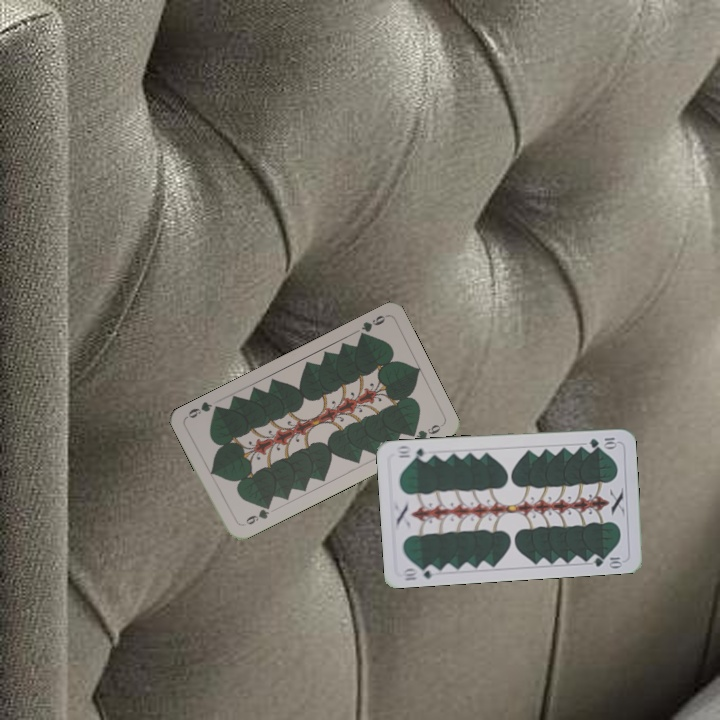G10: (398, 562, 439, 583), (585, 433, 619, 450)
G9: (355, 311, 389, 341), (238, 501, 273, 528)
